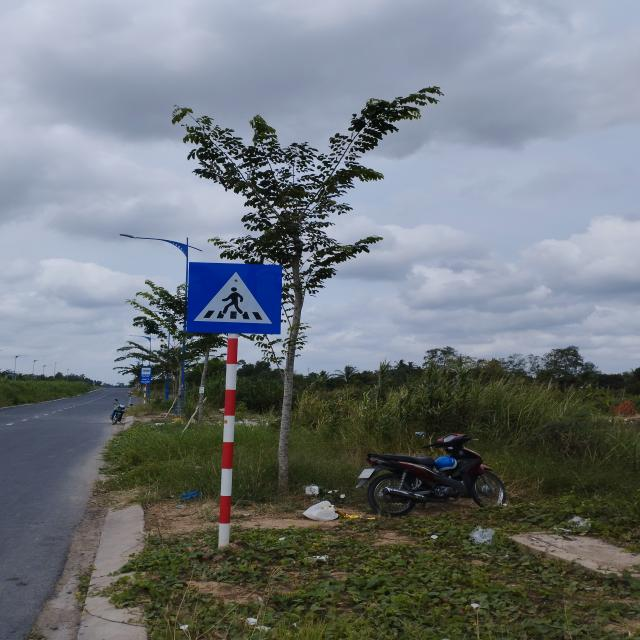Giao_Nhau_Duong_Uu_Tien: (188, 262, 282, 334)
